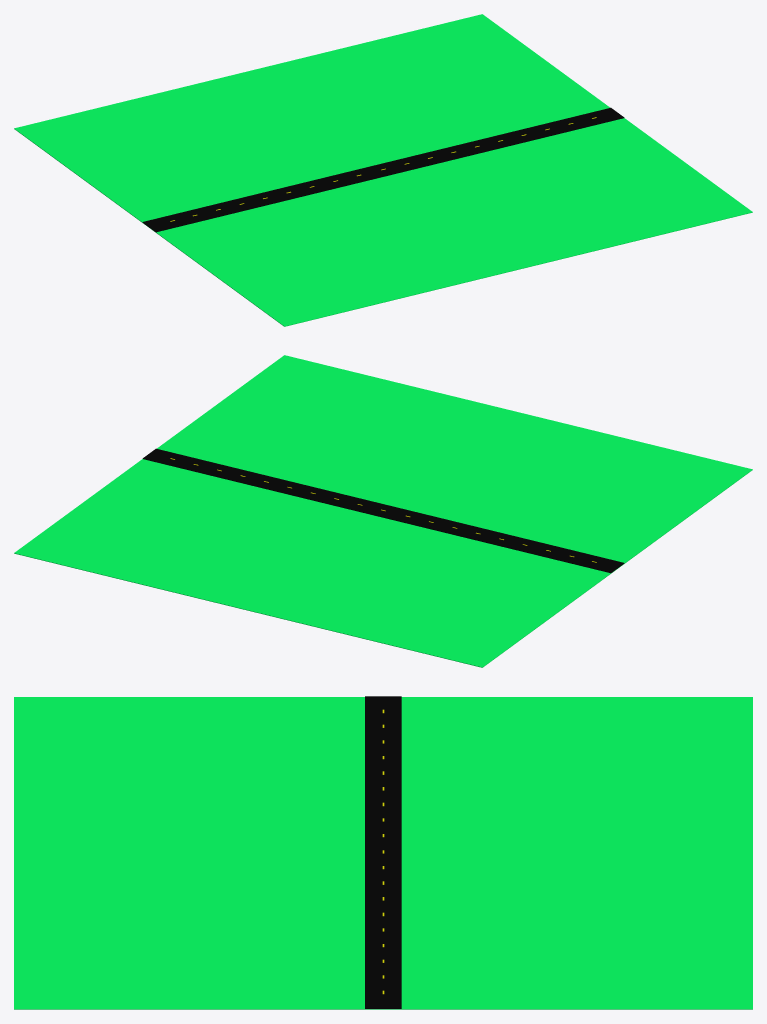
File: Floor01.fbx
3 views of the same model, one above another, from view 1: azimuth 30°, elevation 25°; view 2: azimuth 150°, elevation 25°; view 3: azimuth 270°, elevation 25° (orthographic). The views are drawn at different scales.
Parts seen in each view (by area): view 1: pCube3, pCube2; view 2: pCube3, pCube2; view 3: pCube3, pCube2.
Part boxes in pixels (left/top/right/bottom): pCube3: left=14, top=14, right=752, bottom=326; pCube2: left=142, top=107, right=624, bottom=232; pCube3: left=14, top=355, right=752, bottom=667; pCube2: left=142, top=448, right=624, bottom=573; pCube3: left=14, top=697, right=752, bottom=1009; pCube2: left=365, top=696, right=401, bottom=1008.
Size of the model in its own units: 100 by 0.275 by 100.
